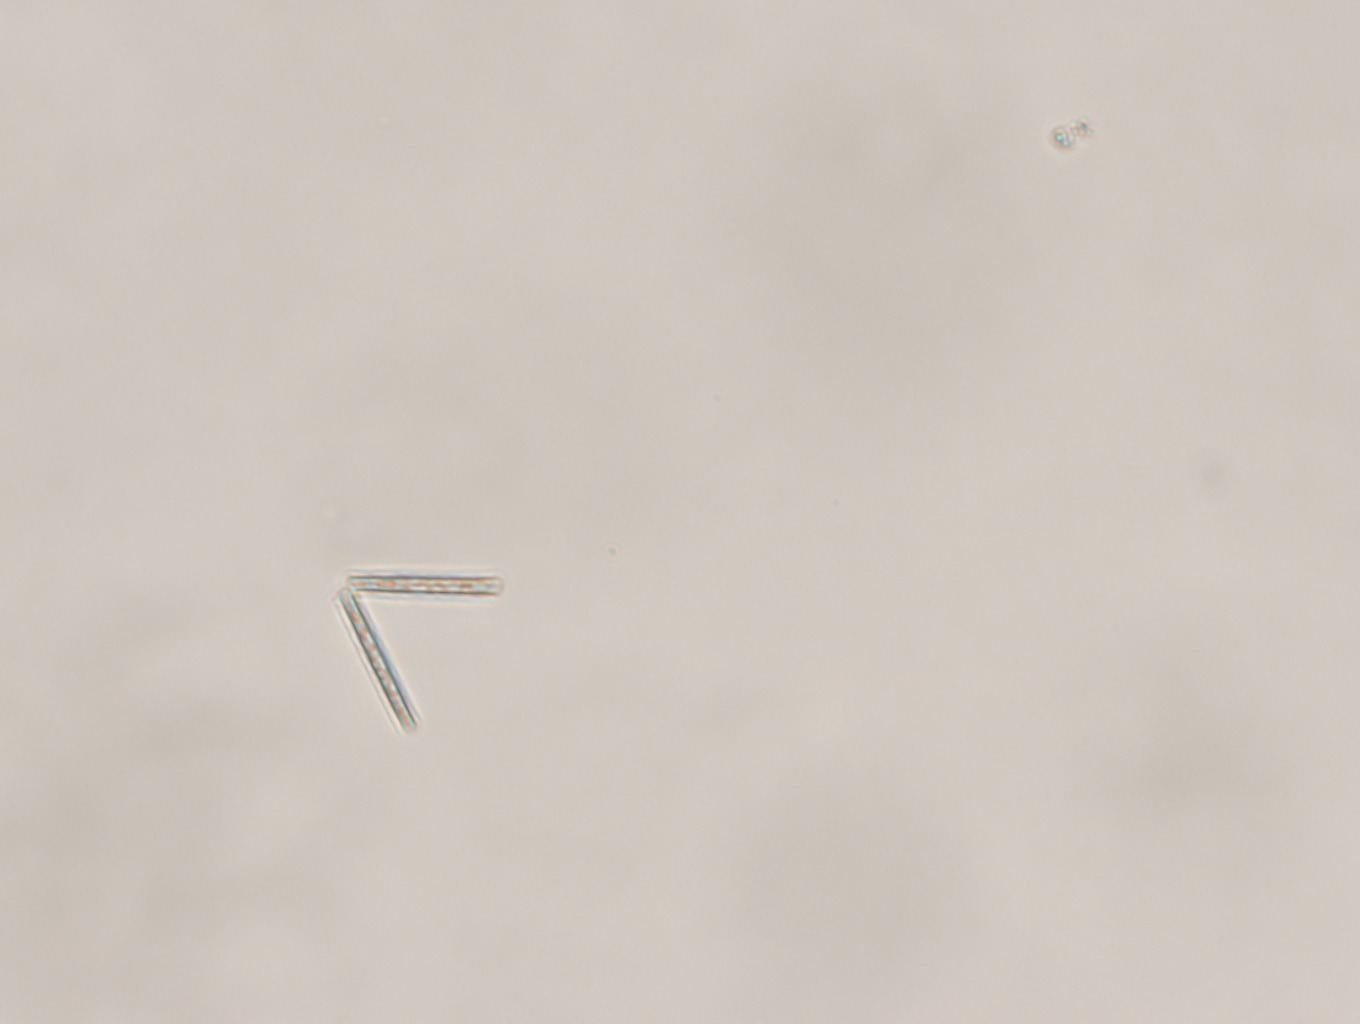thalassionema nitzschioides: (331, 558, 510, 740)
